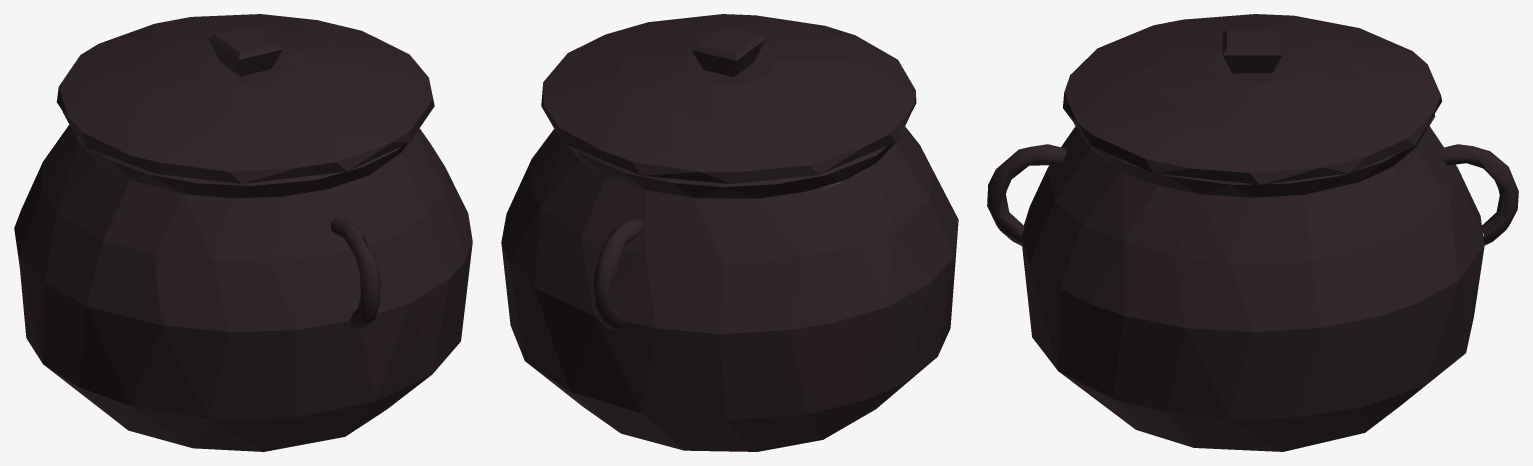
File: Cauldron.fbx
The picture shows the model from 3 angles, left to right: view 1: azimuth 30°, elevation 25°; view 2: azimuth 150°, elevation 25°; view 3: azimuth 270°, elevation 25°; orthographic projection.
Parts seen in each view (by area): view 1: Cauldron, Cauldron_Lid; view 2: Cauldron, Cauldron_Lid; view 3: Cauldron, Cauldron_Lid.
Part boxes in pixels (box(x1,y1,x2,y2)): Cauldron: box(14, 111, 472, 451); Cauldron_Lid: box(56, 14, 434, 183); Cauldron: box(501, 116, 958, 451); Cauldron_Lid: box(541, 14, 916, 184); Cauldron: box(987, 114, 1518, 451); Cauldron_Lid: box(1063, 14, 1441, 184).
Bounding box in the file's own units: 234 × 196 × 271.
